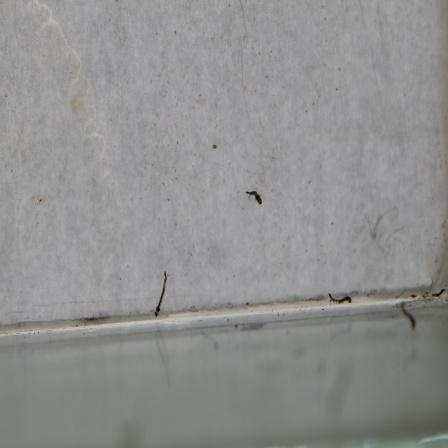Jentik-Nyamuk: (152, 268, 174, 322), (327, 287, 356, 310), (242, 184, 265, 208)
